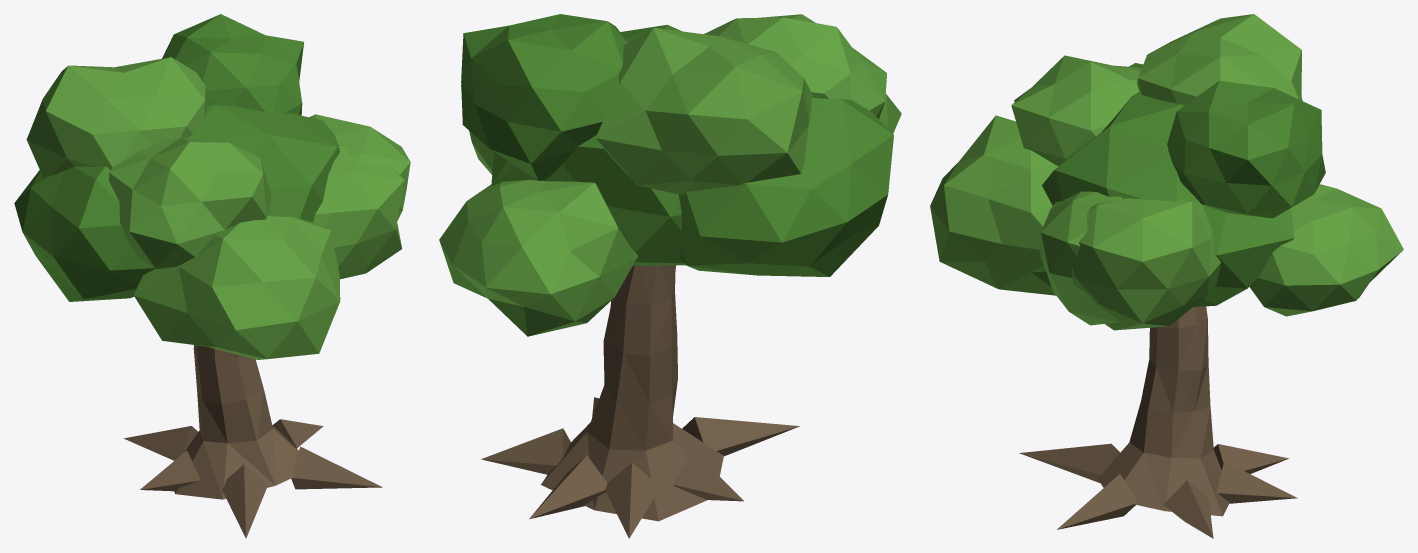
File: HS_LP_Tree_AncientOak_01.fbx
3 views of the same model, side by side, from view 1: azimuth 30°, elevation 25°; view 2: azimuth 150°, elevation 25°; view 3: azimuth 270°, elevation 25° (orthographic). The views are drawn at different scales.
Parts seen in each view (by area): view 1: HS_LP_Tree_AncientOak_01; view 2: HS_LP_Tree_AncientOak_01; view 3: HS_LP_Tree_AncientOak_01.
Part boxes in pixels (x1,y1,x2,y2): HS_LP_Tree_AncientOak_01: (14, 14, 410, 538); HS_LP_Tree_AncientOak_01: (439, 14, 901, 538); HS_LP_Tree_AncientOak_01: (930, 14, 1403, 538).
Bounding box in the file's own units: 604 × 686 × 698.
